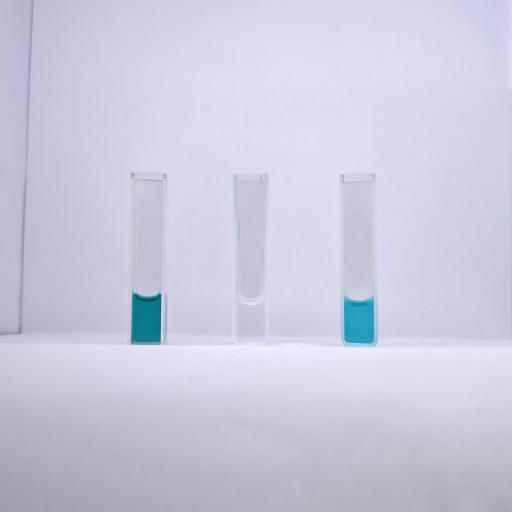cuvette: (126, 170, 169, 346), (338, 171, 380, 347), (230, 171, 270, 347)
liquid: (132, 293, 162, 341), (344, 296, 374, 343), (236, 296, 265, 342)
